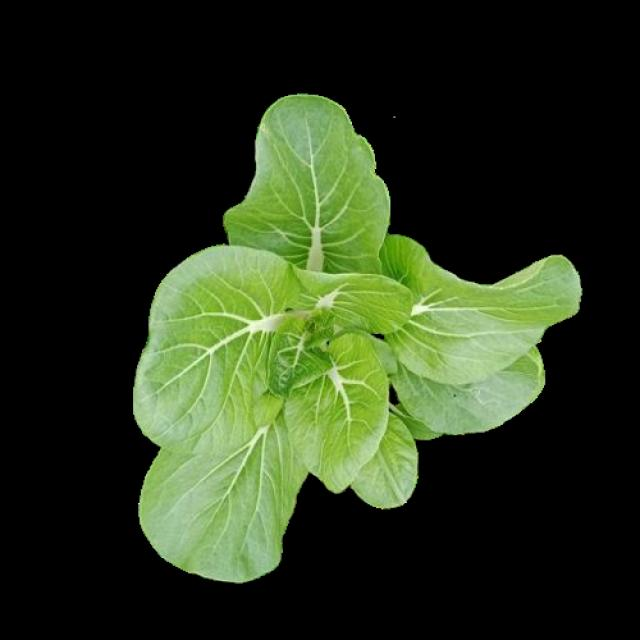healthy: (133, 93, 580, 580)
mature: (136, 96, 582, 582)
